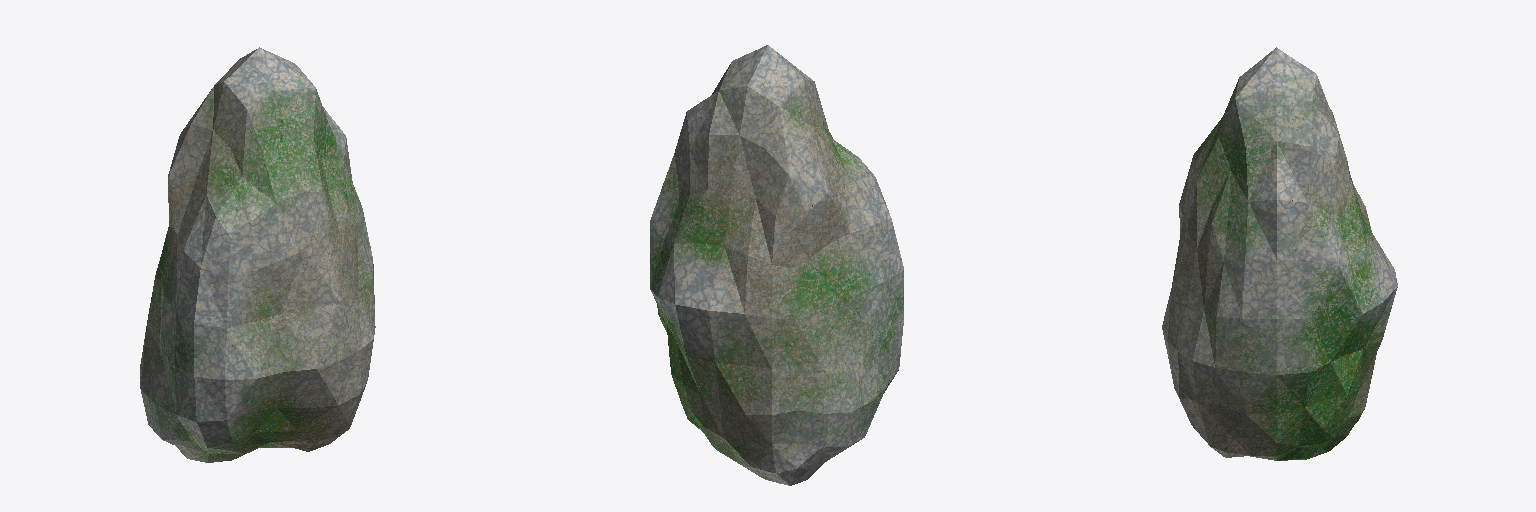
3 renders of one model, left to right at view 1: azimuth 30°, elevation 25°; view 2: azimuth 150°, elevation 25°; view 3: azimuth 270°, elevation 25°, orthographic.
Parts seen in each view (by area): view 1: Stone_F_3_LOD1; view 2: Stone_F_3_LOD1; view 3: Stone_F_3_LOD1.
Boxes of the visible parts, box(x1,y1,x2,y2) form: Stone_F_3_LOD1: box(140, 47, 375, 462); Stone_F_3_LOD1: box(650, 45, 903, 485); Stone_F_3_LOD1: box(1162, 47, 1397, 460).
Size of the model in its own units: 10.18 by 19.8 by 10.11.
Materials: 1 (1 with a texture image).